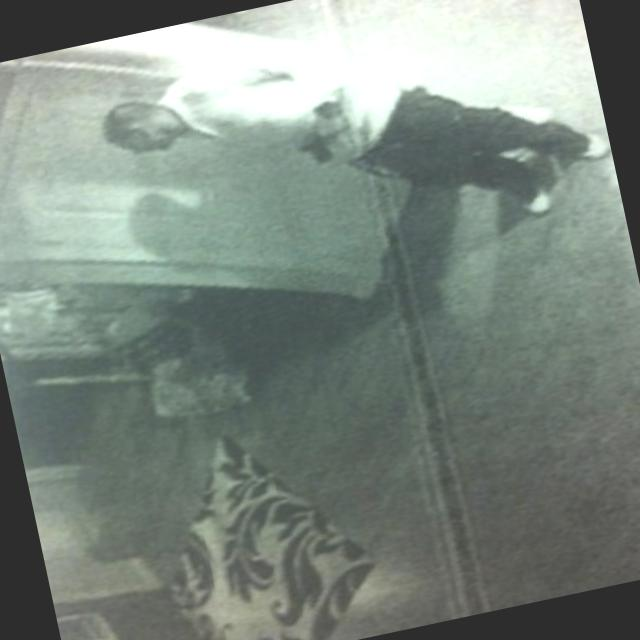handgun: (289, 124, 345, 168)
